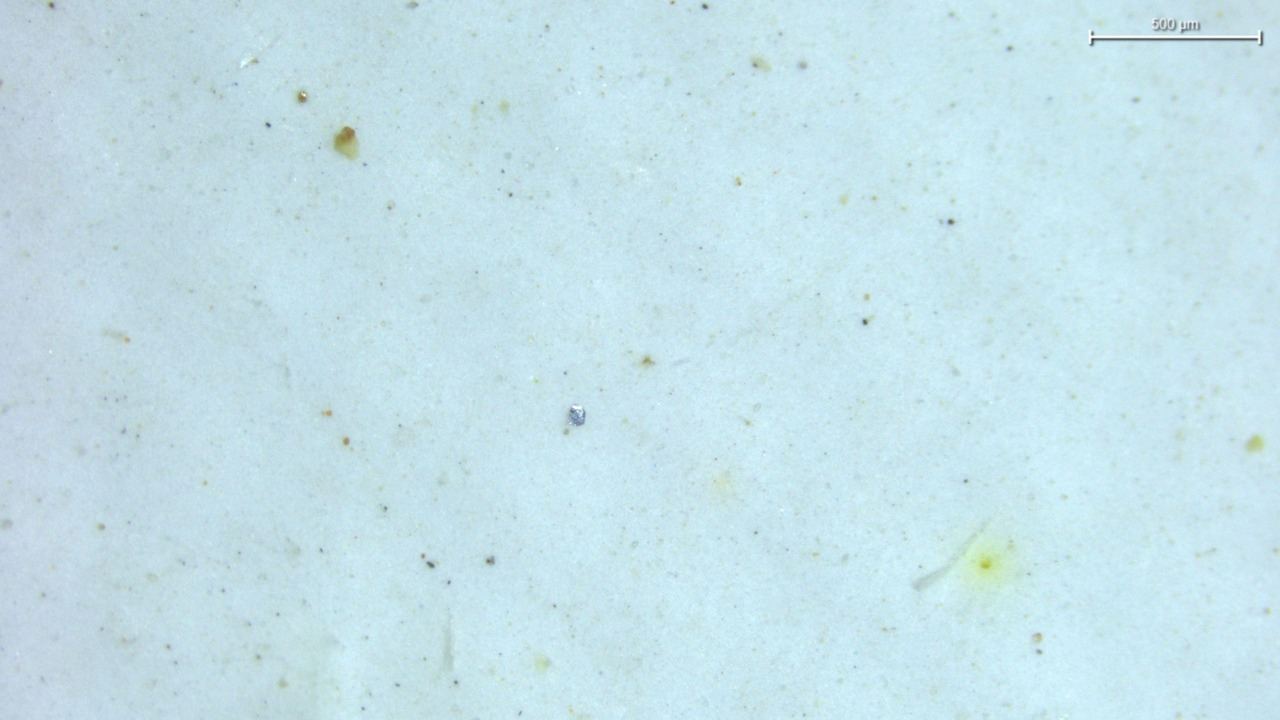microplastic_fragment: (567, 404, 585, 426)
